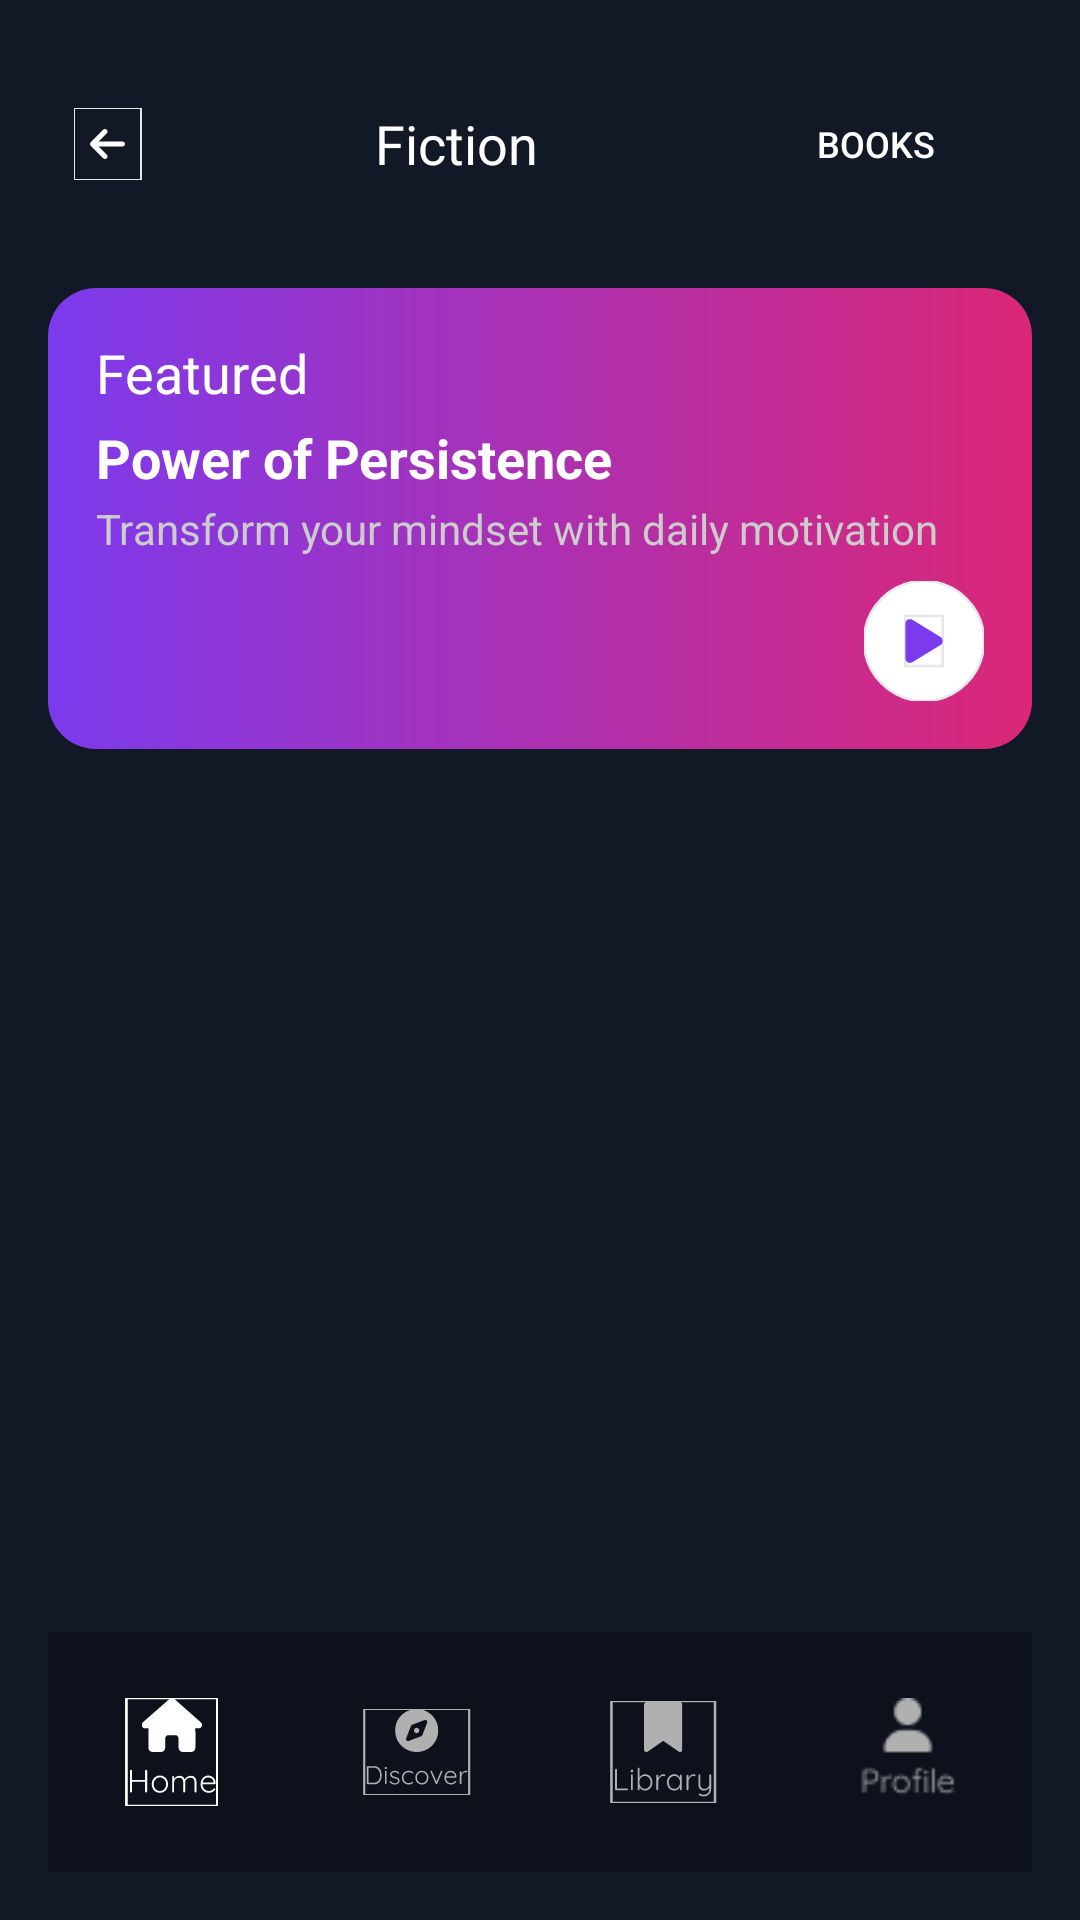

Where icons sit on this 1080*1920 app screen, as (x1, y1, x2, y2):
backbutt: (74, 108, 142, 180)
play: (864, 581, 984, 701)
